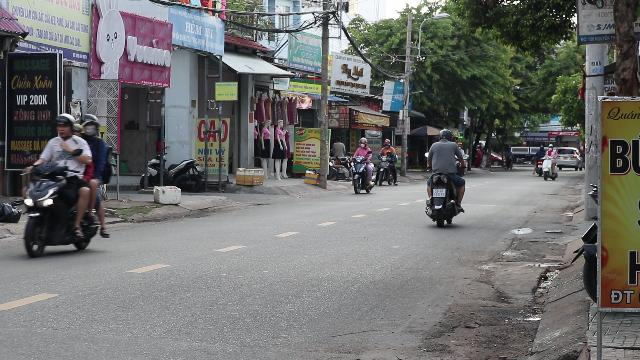helmet: (54, 114, 74, 138), (80, 113, 100, 137), (438, 128, 452, 140)
licenseplate: (432, 188, 444, 196)
motorcyclist: (18, 112, 112, 258), (422, 127, 468, 226)
